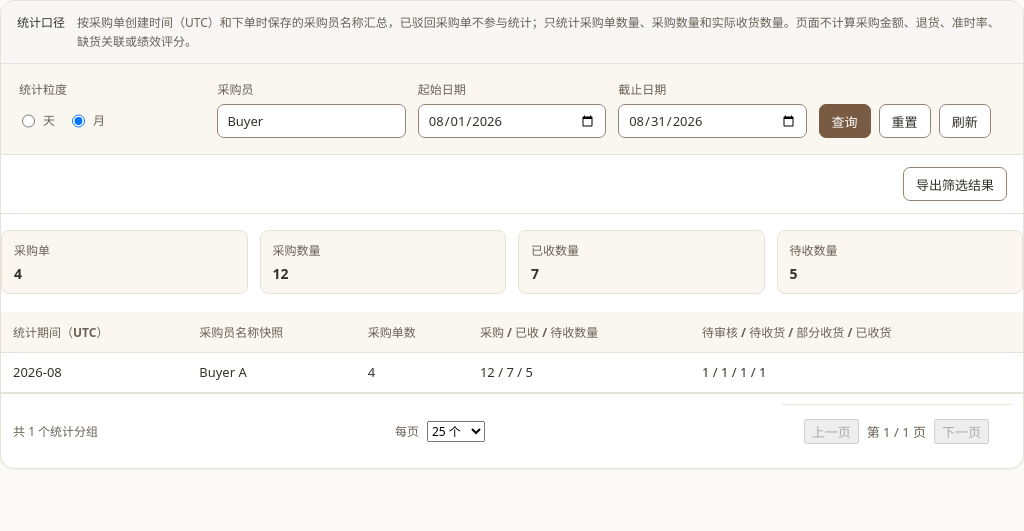
it: purchaser performance page › downloads the current filtered result and announces success
Step 1. Click the button "导出筛选结果" → (955,184), box x1=903 y1=167 x2=1007 y2=201
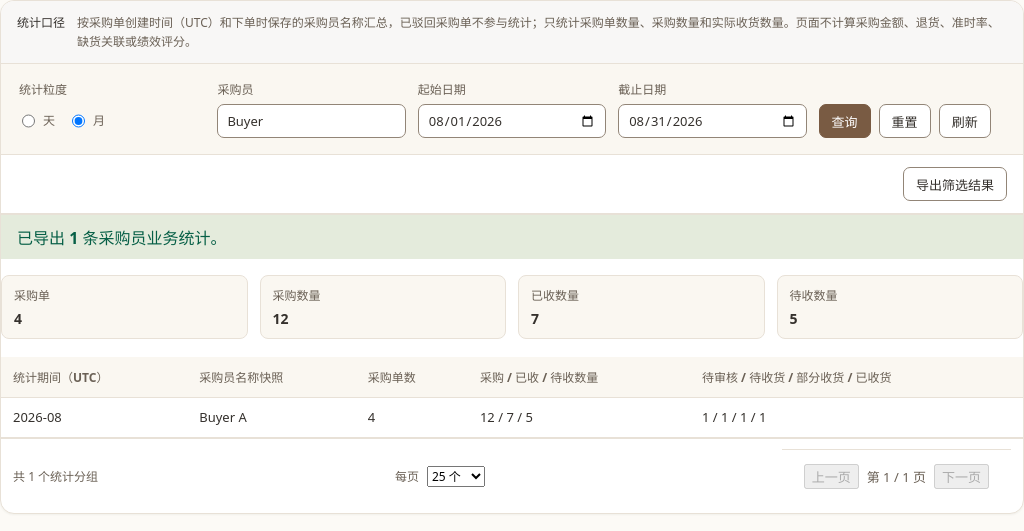
Expected: the text "已导出 1 条采购员业务统计。" is shown, x1=1 y1=214 x2=1023 y2=259
